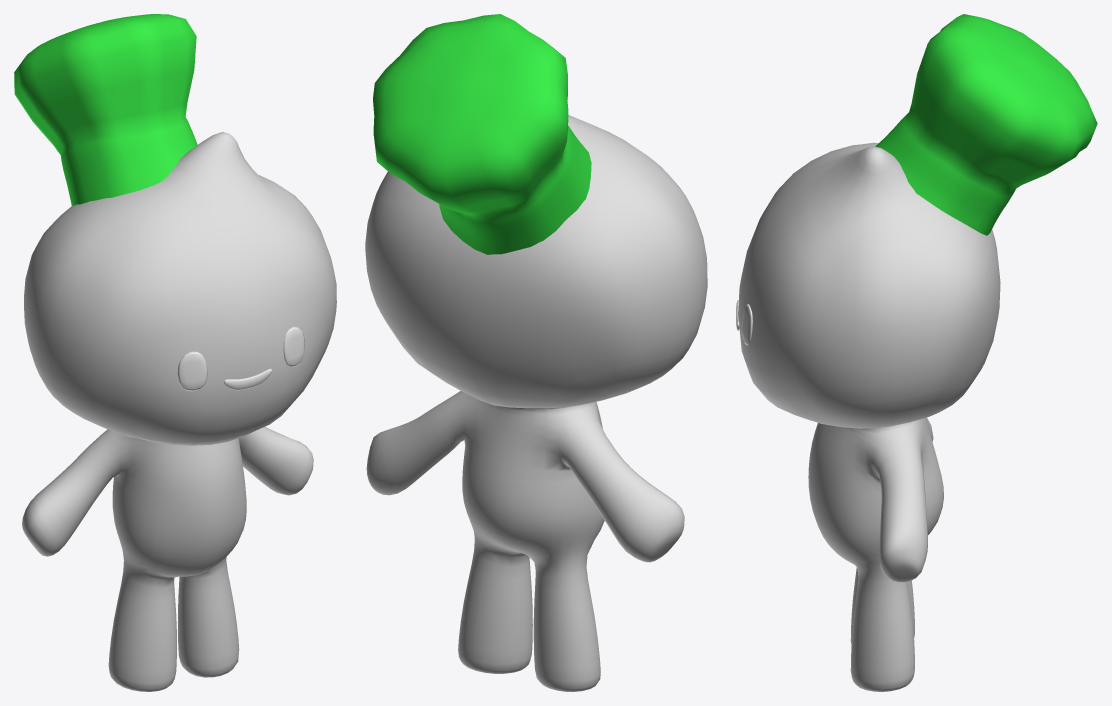
File: MainChar.fbx
3 views of the same model, side by side, from view 1: azimuth 30°, elevation 25°; view 2: azimuth 150°, elevation 25°; view 3: azimuth 270°, elevation 25° (orthographic). The views are drawn at different scales.
Visible parts, largest first — view 1: Cube.012; view 2: Cube.012; view 3: Cube.012.
Boxes of the visible parts, <box> form: Cube.012: <box>14,14,336,691</box>; Cube.012: <box>365,14,707,691</box>; Cube.012: <box>736,14,1097,691</box>.
Bounding box in the file's own units: 129 × 272 × 140.
